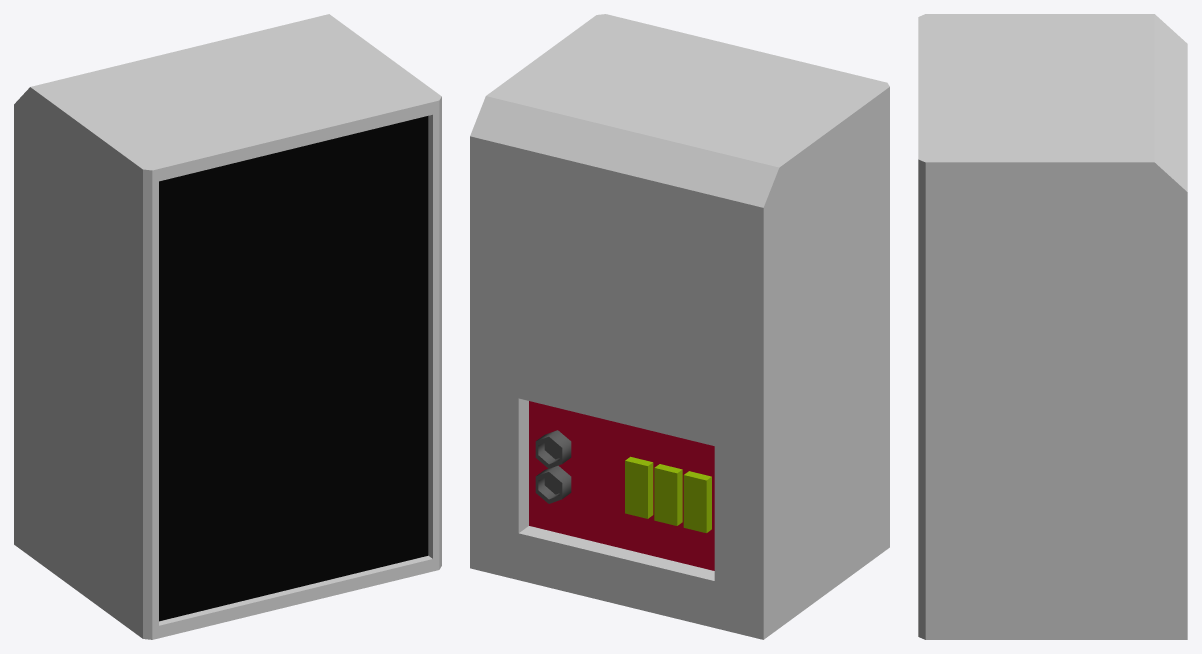
File: Altavoz.fbx
3 views of the same model, side by side, from view 1: azimuth 30°, elevation 25°; view 2: azimuth 150°, elevation 25°; view 3: azimuth 270°, elevation 25° (orthographic). The views are drawn at different scales.
Parts seen in each view (by area): view 1: Cube; view 2: Cube; view 3: Cube.
Boxes of the visible parts, x1,y1,x2,y2 form: Cube: (14, 14, 441, 639); Cube: (470, 14, 889, 639); Cube: (918, 14, 1187, 639).
Bounding box in the file's own units: 100 × 150 × 76.61.
